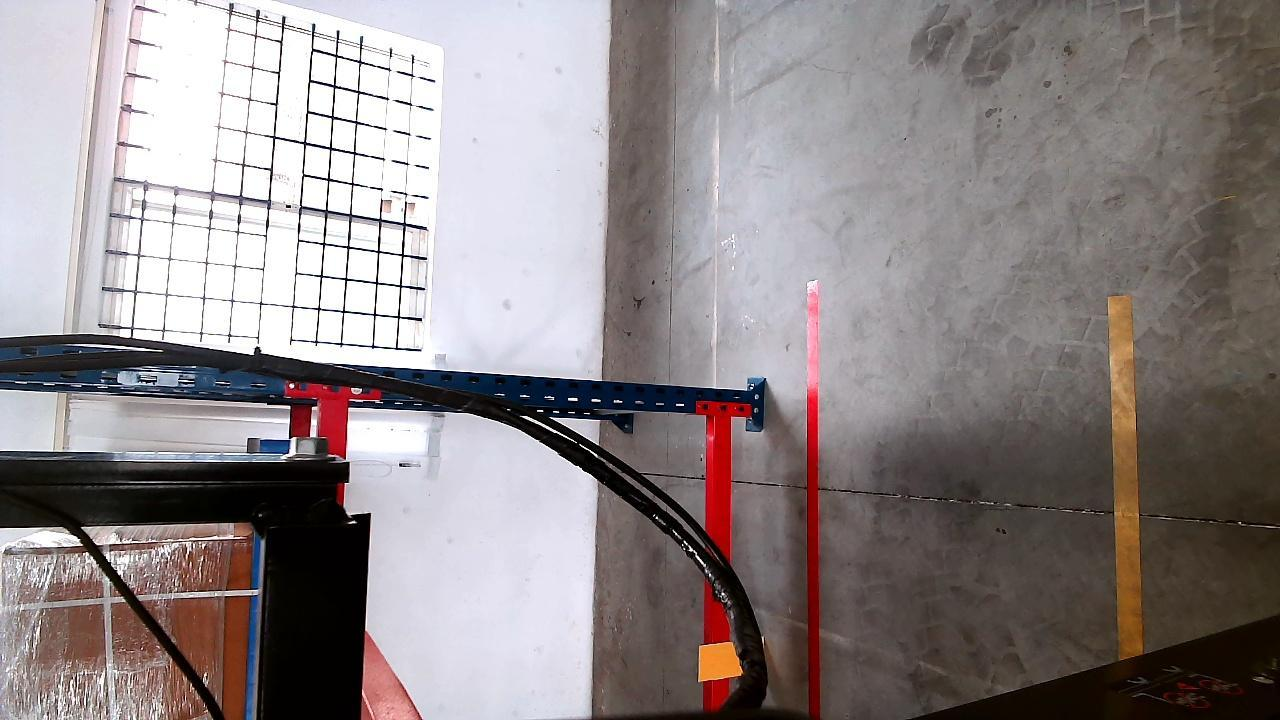red_line: (804, 284, 824, 715)
yellow_line: (1110, 290, 1145, 656)
